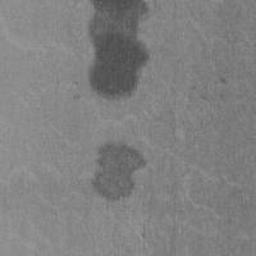Oil spot: (87, 0, 151, 101), (91, 141, 147, 201)
